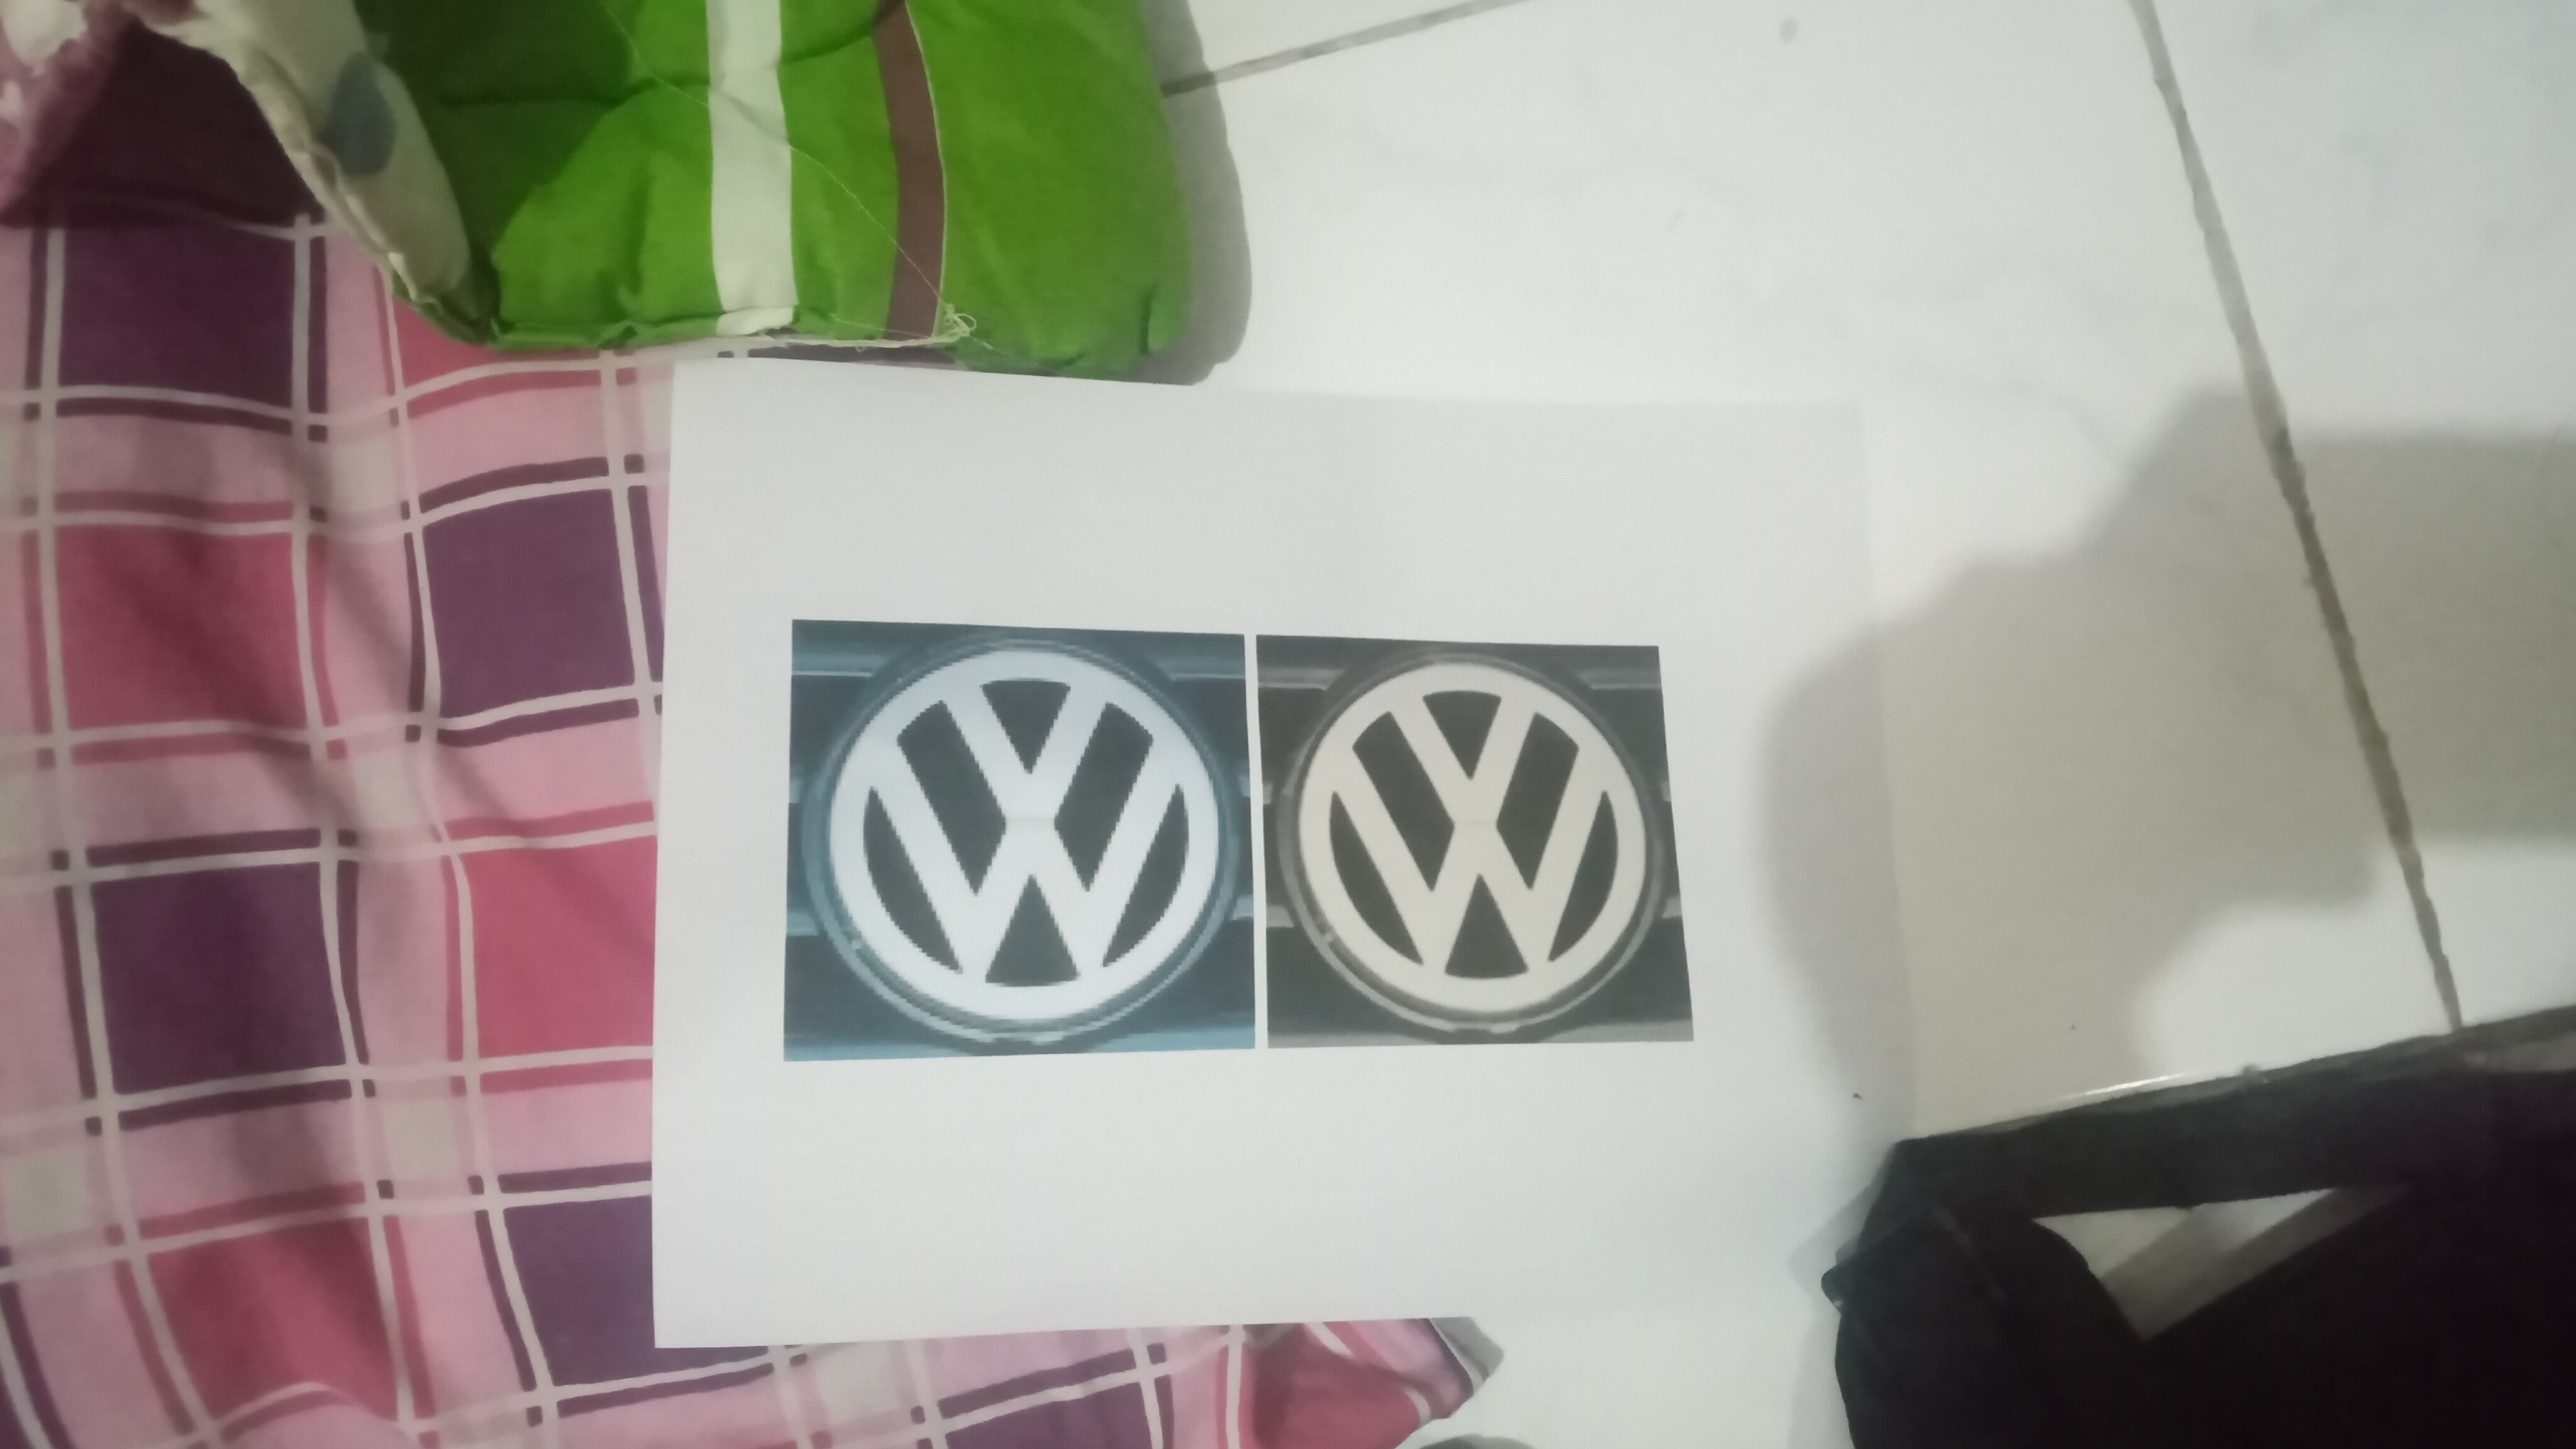Volkswagen: (793, 625, 1230, 1049), (1261, 648, 1674, 1035)
